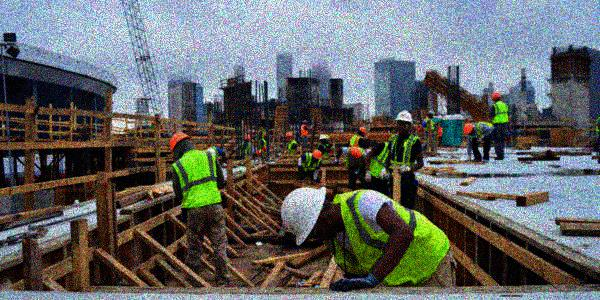helmet: (279, 185, 338, 245), (168, 130, 194, 156), (395, 109, 413, 136), (349, 146, 362, 159), (311, 149, 322, 162), (357, 125, 367, 137), (284, 131, 293, 142), (427, 109, 436, 119), (319, 135, 327, 144), (243, 134, 251, 143), (263, 132, 269, 141), (302, 119, 308, 126)
